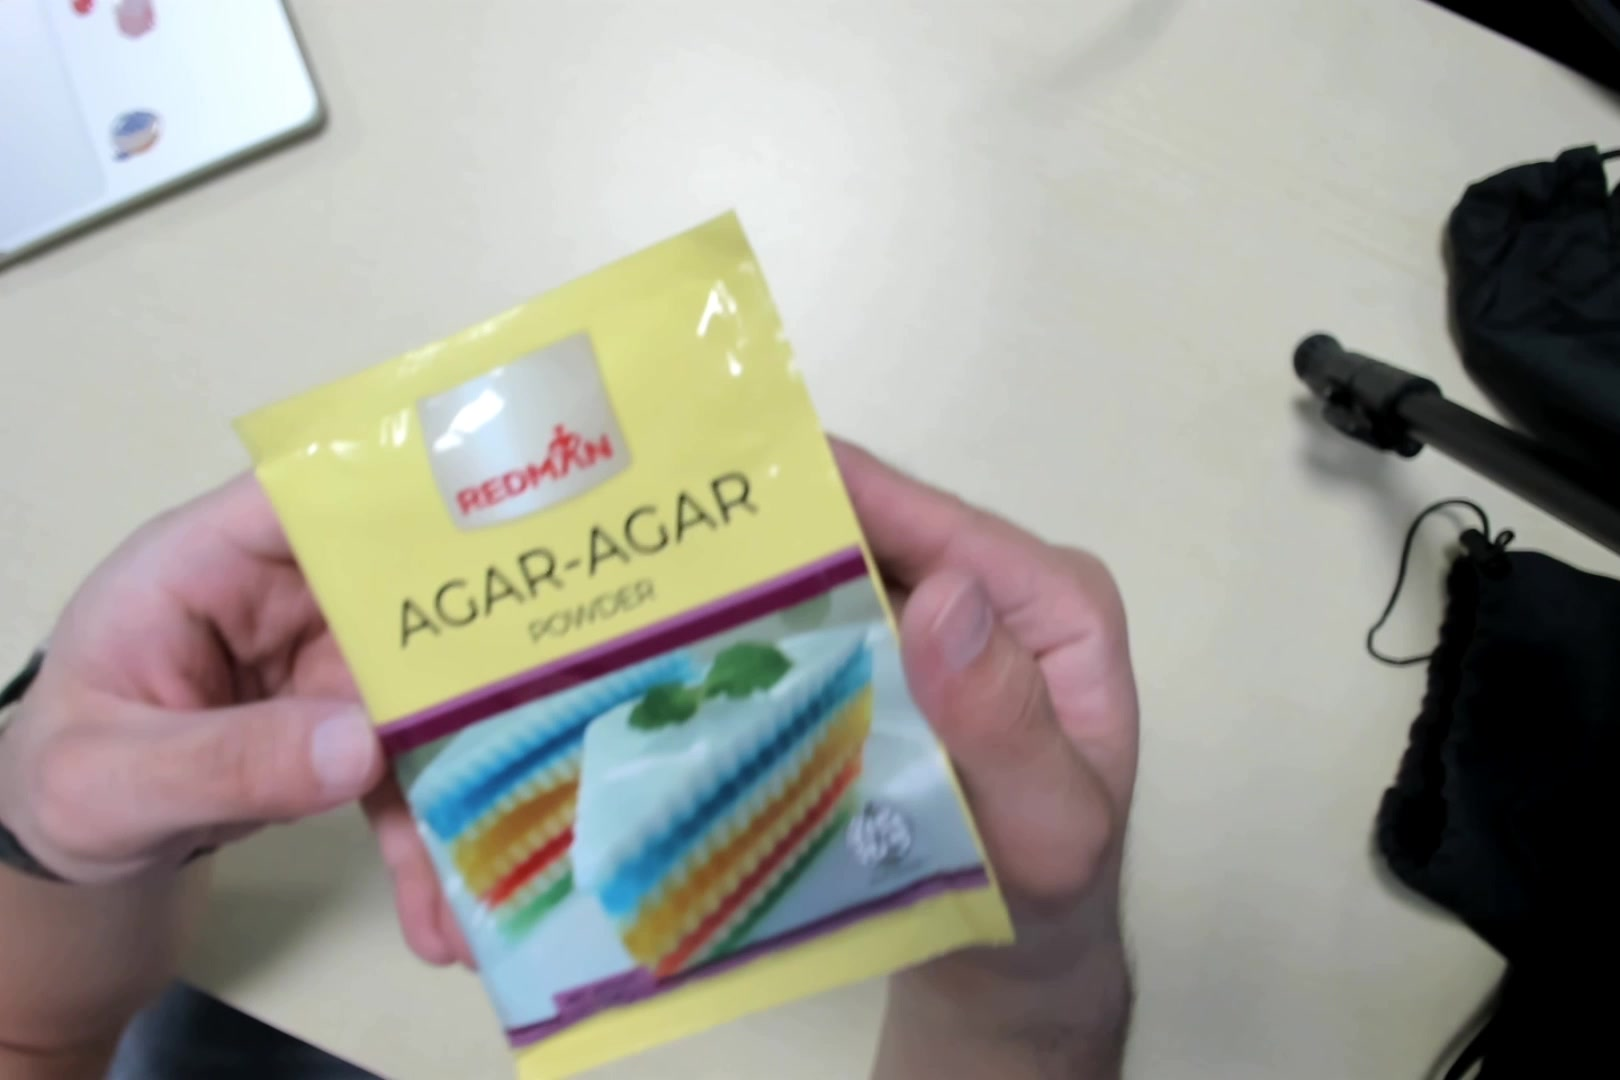OtherBakingNeeds_0-99g_Halal_NonHealthy: (271, 216, 1003, 1067)
